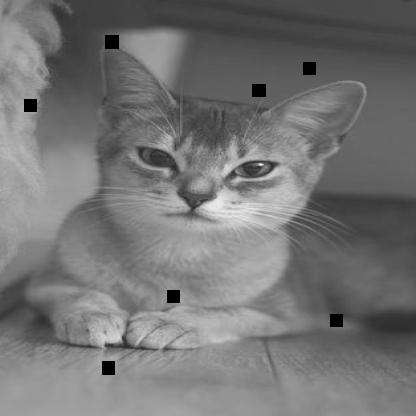cat: (24, 43, 415, 351)
